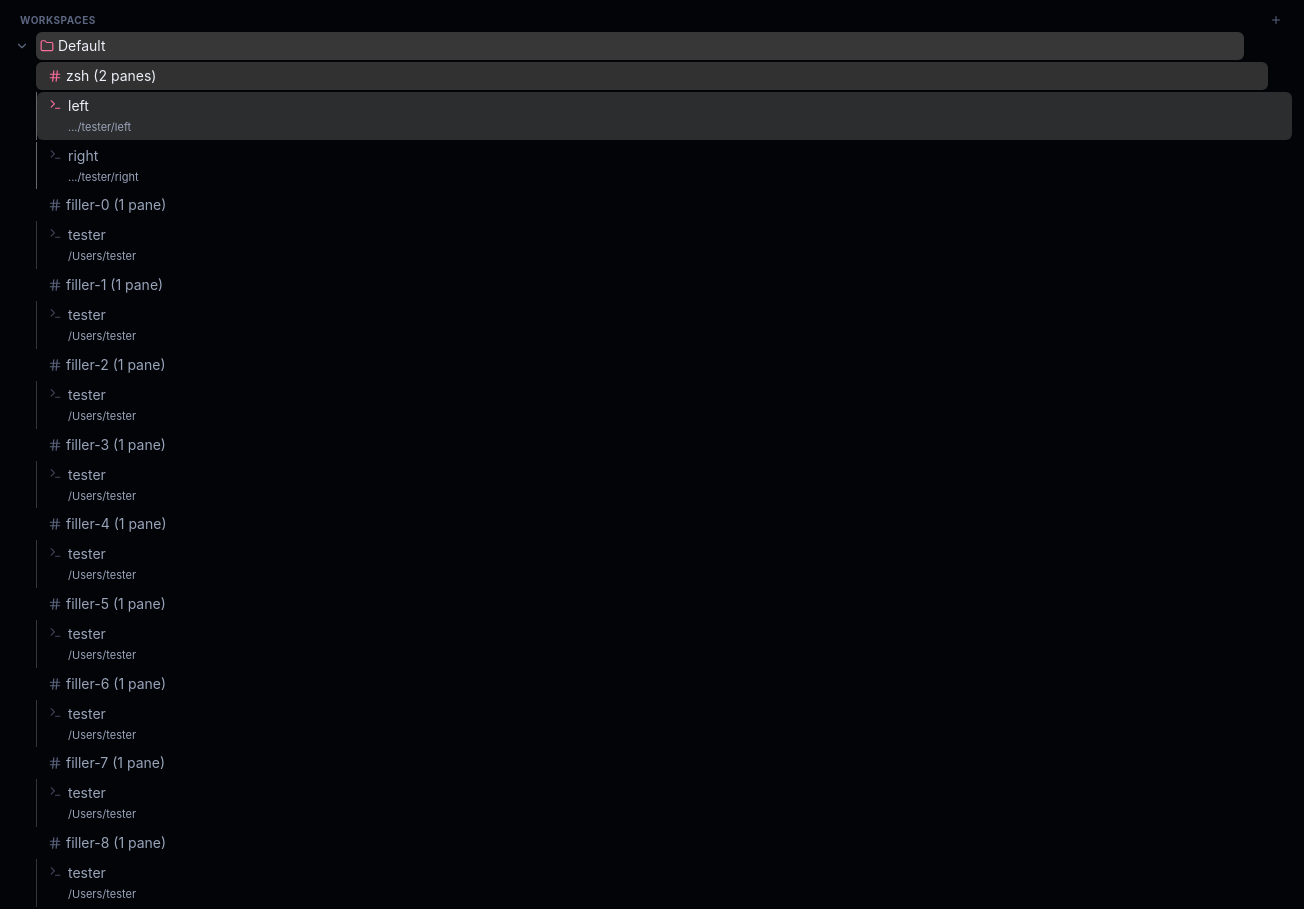
Test: WorkspacesView › Pane context menu (Create Tab from Pane) › disables the action with a reason at the workspace tab limit
The width and height of the screenshot is (1304, 909).
Note: a pane row in the (still two-pane) original tab is right-clicked.
Right-click the button "right .../tester/right" at {"x": 83, "y": 155}, box [37,142,1292,189]
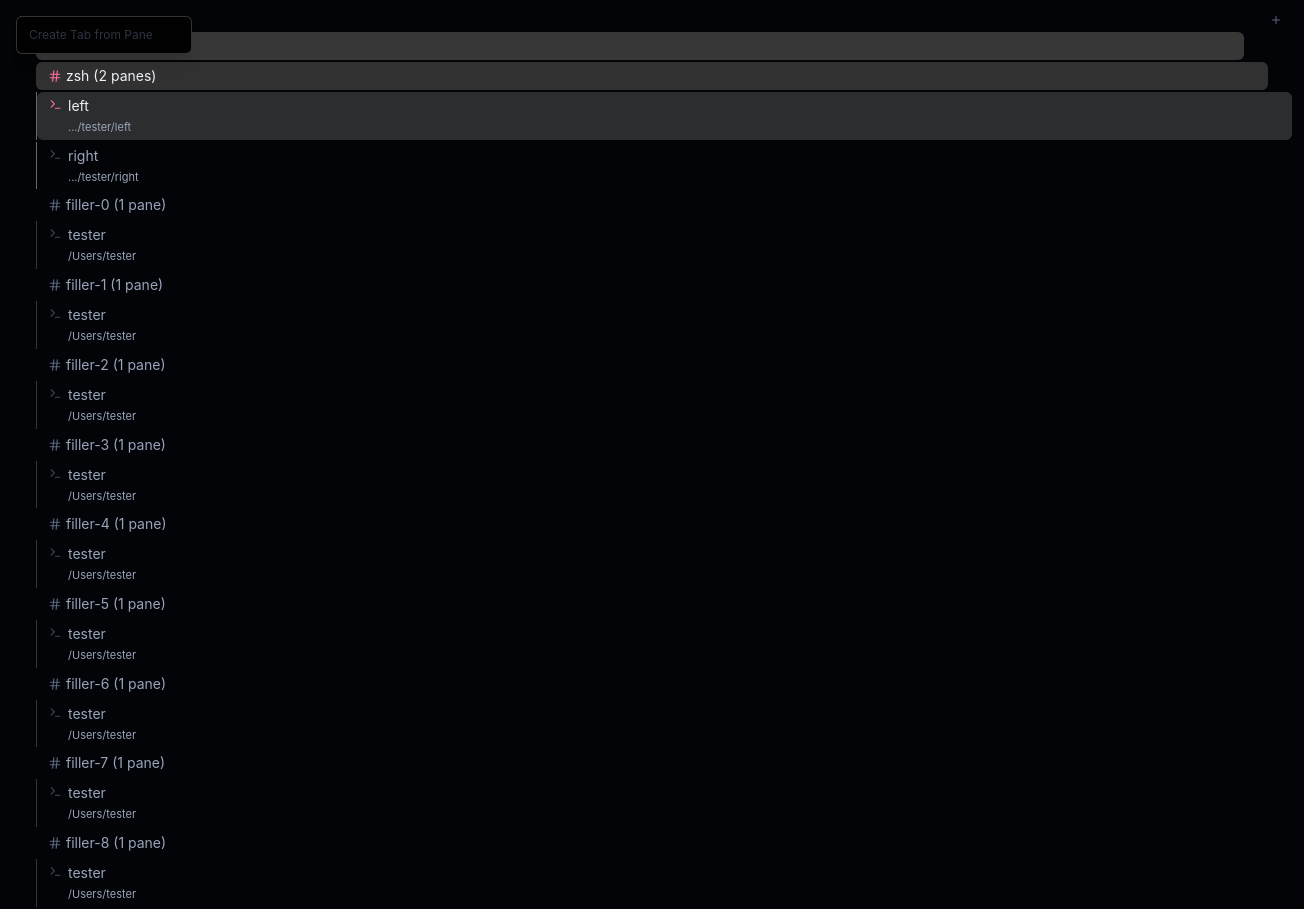
Now the menu item "Create Tab from Pane" is disabled, box [17,21,191,49]
